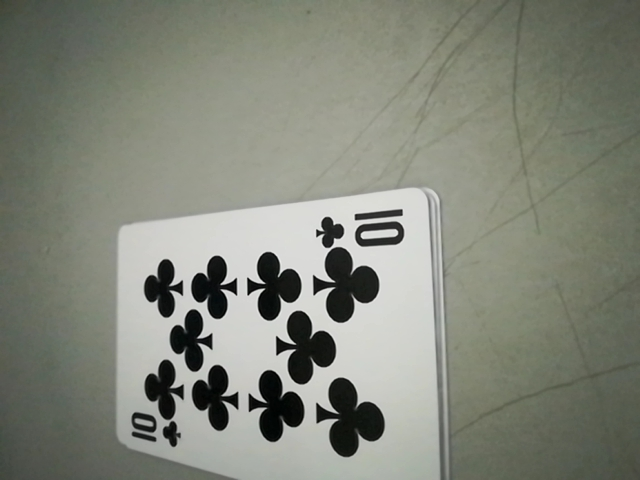mh 10: (313, 201, 417, 251), (124, 412, 182, 455)
